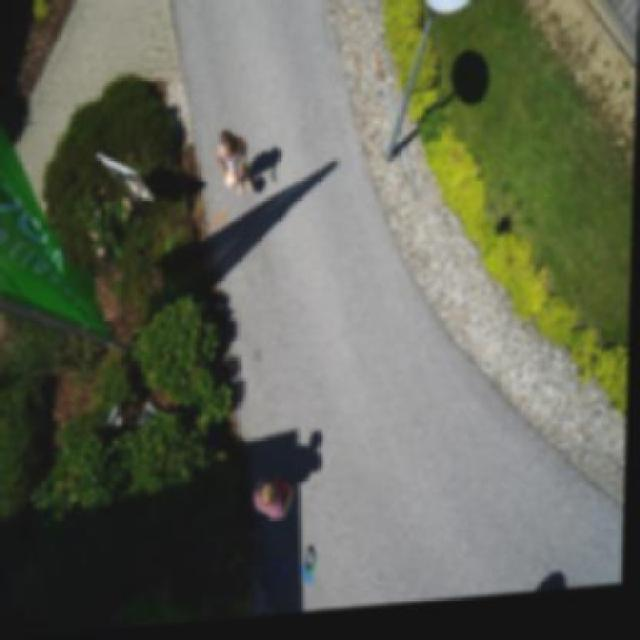Person: (208, 126, 262, 208), (251, 475, 298, 528)
